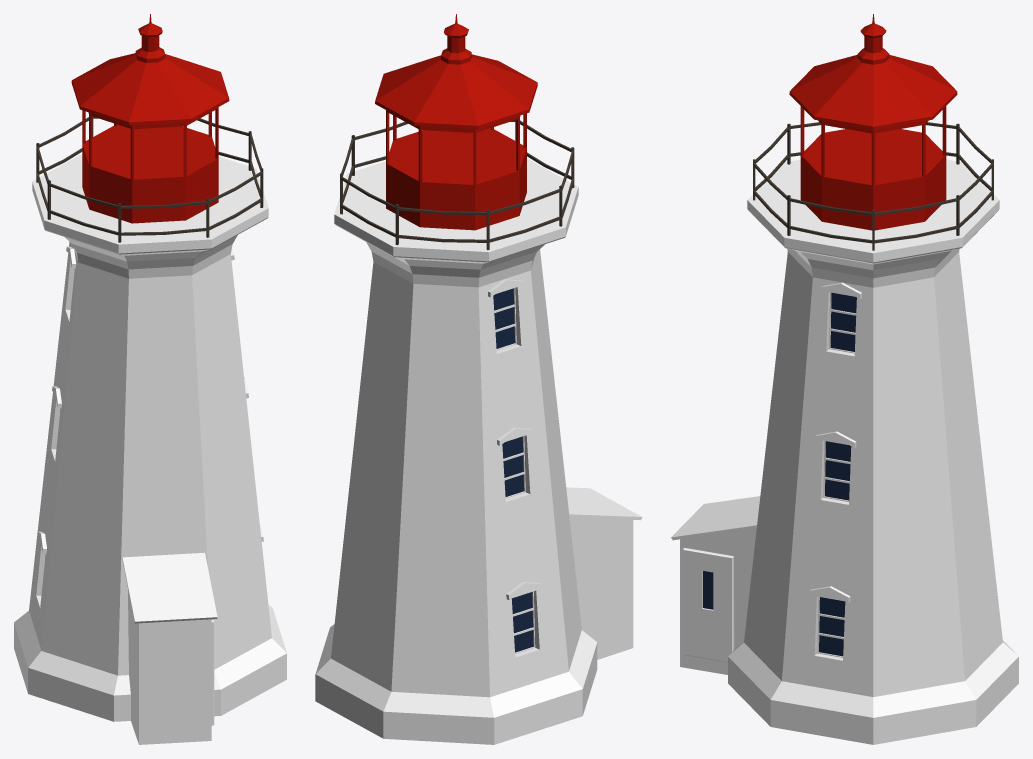
Rendered from lighthouse.glb.
3 renders of one model, left to right at view 1: azimuth 30°, elevation 25°; view 2: azimuth 150°, elevation 25°; view 3: azimuth 270°, elevation 25°, orthographic. The views are drawn at different scales.
Parts seen in each view (by area): view 1: lighthouse; view 2: lighthouse; view 3: lighthouse.
Part boxes in pixels (x1,y1,x2,y2): lighthouse: (14, 14, 286, 744); lighthouse: (315, 14, 642, 744); lighthouse: (671, 14, 1018, 744).
Size of the model in its own units: 4.96 by 12.6 by 5.94.
Materials: 1 (1 with a texture image).
